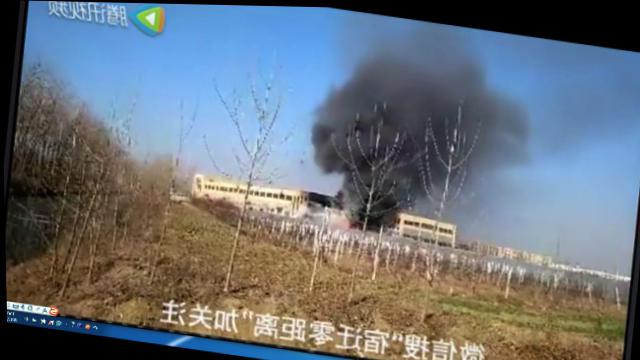smoke: (353, 51, 491, 127), (306, 102, 422, 182), (338, 172, 415, 226), (475, 87, 527, 165), (326, 71, 357, 106)
